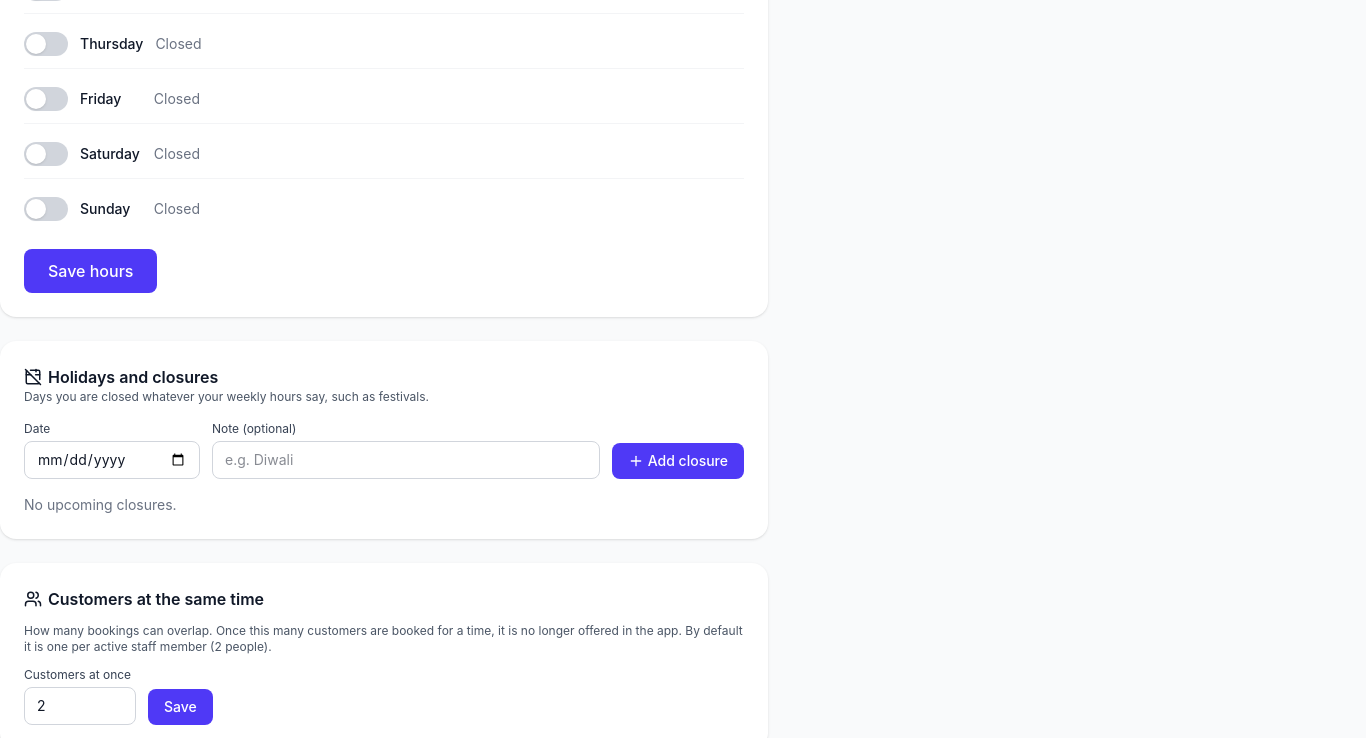
Test: OpeningHoursPage closures and capacity › explains the default capacity, saves an override and goes back to the staff count
The image size is (1366, 738).
(page scrolled)
expect the text "one per active staff member (2 people)" is shown: met, box [24,623,744,655]
expect the button "Use staff count" is not shown: met
Replace the text in the number field labelled "Customers at once" with "0". click: (80, 706)
box: [24,687,136,725]
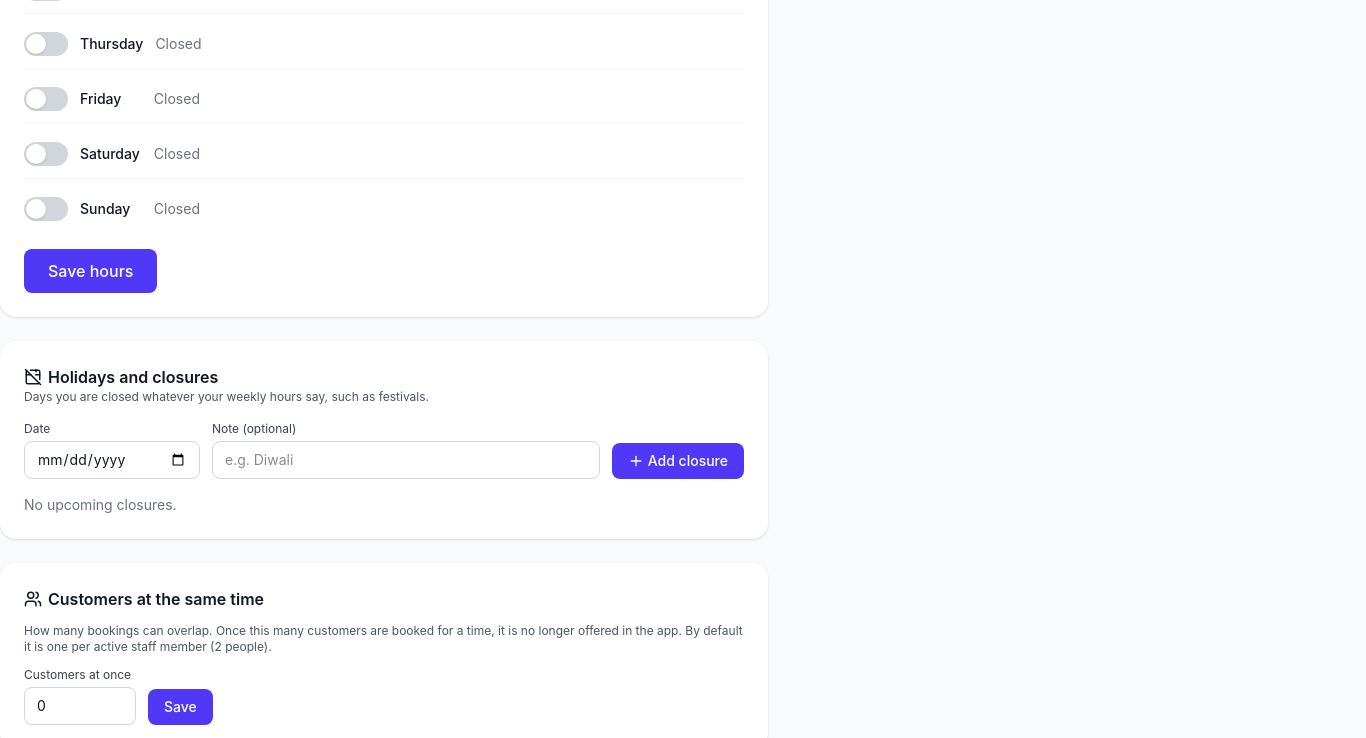
Click the button "Save". click: click(180, 707)
box: [148,689,213,725]
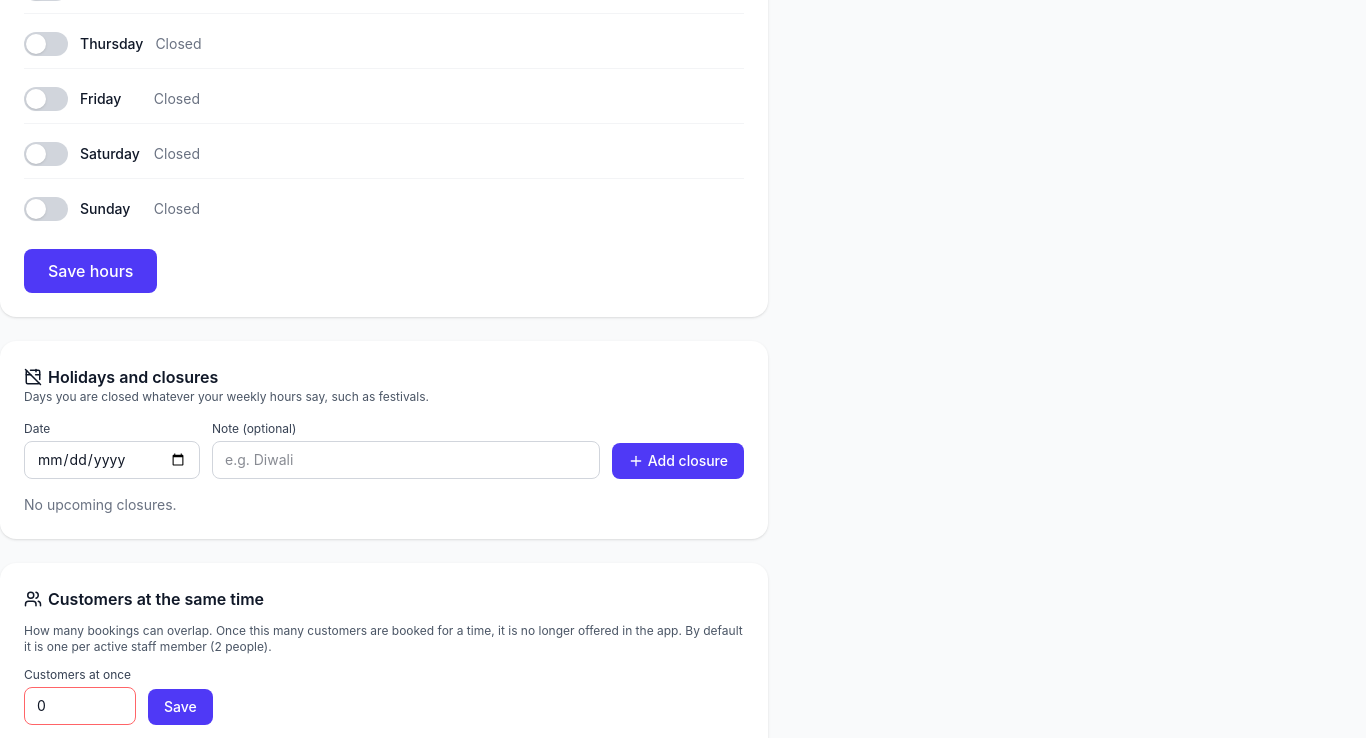
Replace the text in the number field labelled "Customers at once" with "4". click: (80, 706)
box: [24,687,136,725]
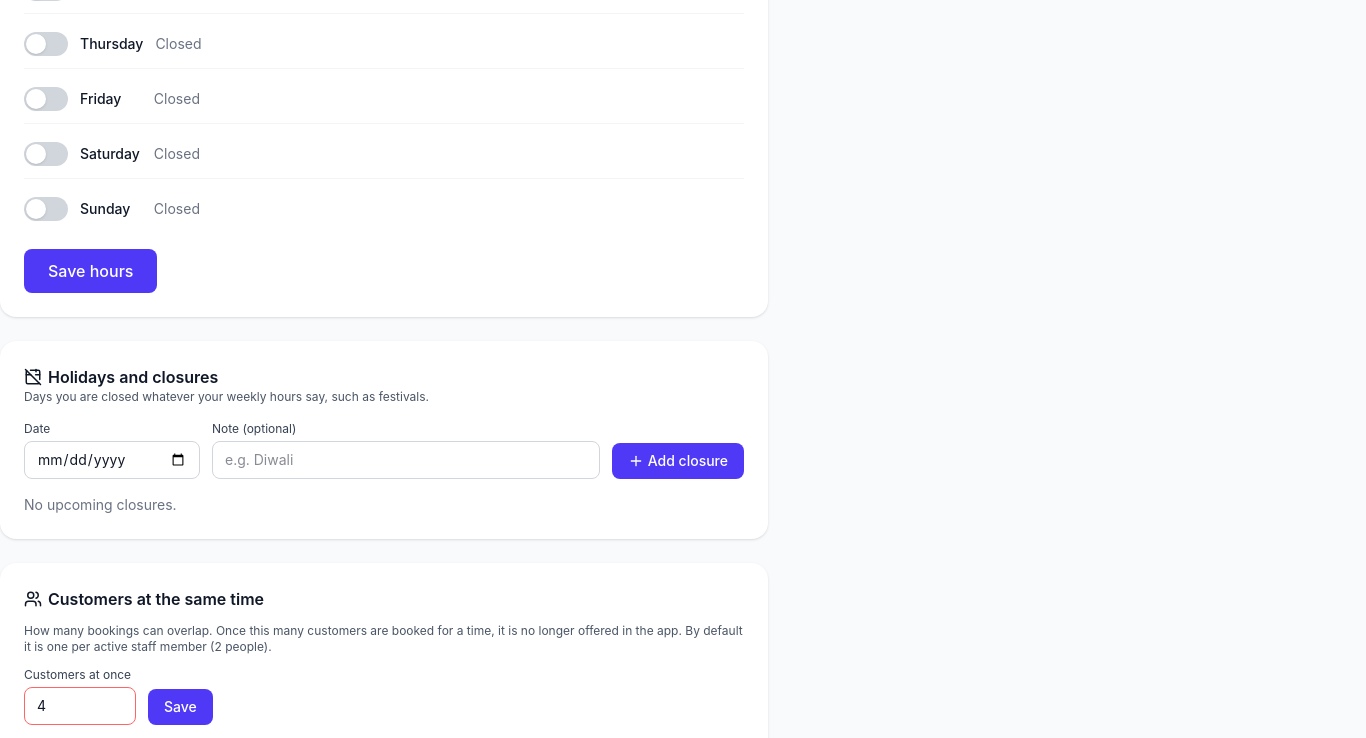
Click the button "Save". click: click(180, 707)
box: [148,689,213,725]
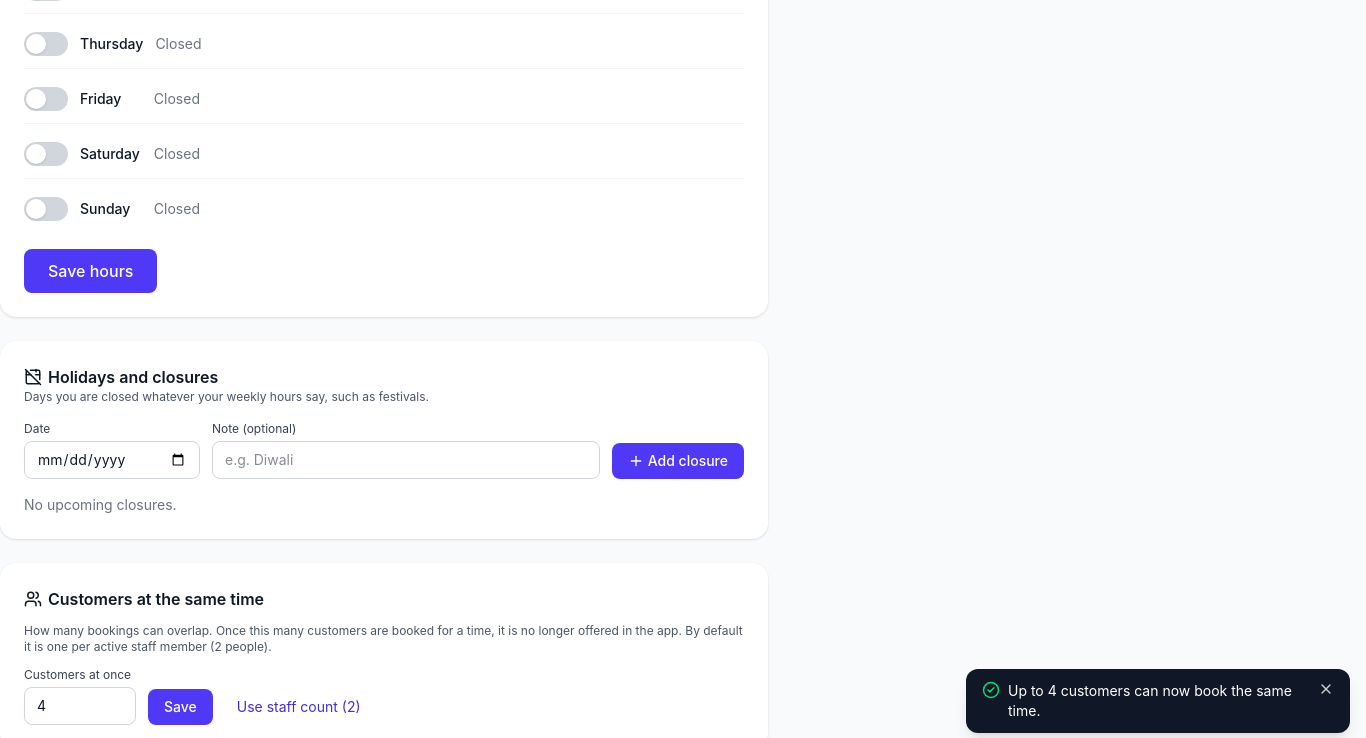
expect the text "Up to 4 customers can now book the same time." is shown: met, box [1008,681,1310,721]
Click the button "Use staff count (2)". click: click(299, 707)
box: [225,689,373,725]
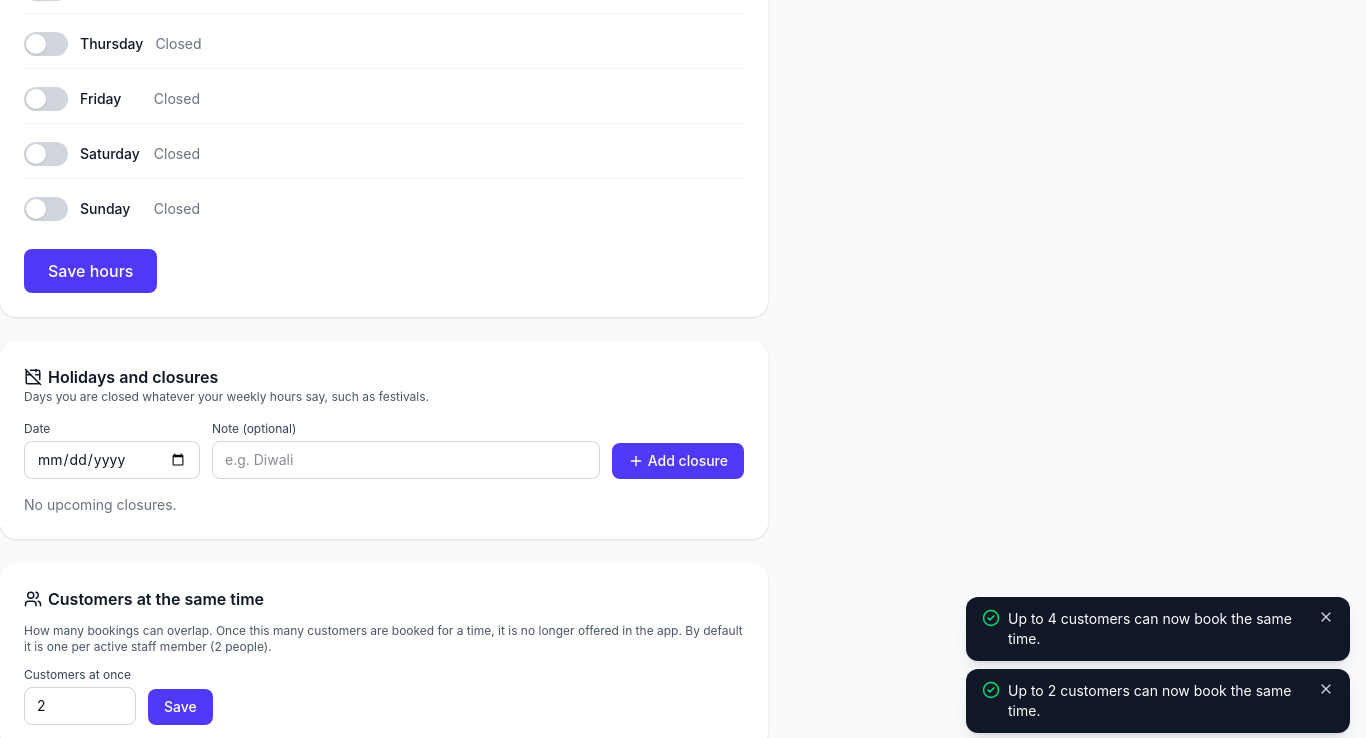
expect the number field labelled "Customers at once" holds "2": met, box [24,687,136,725]
